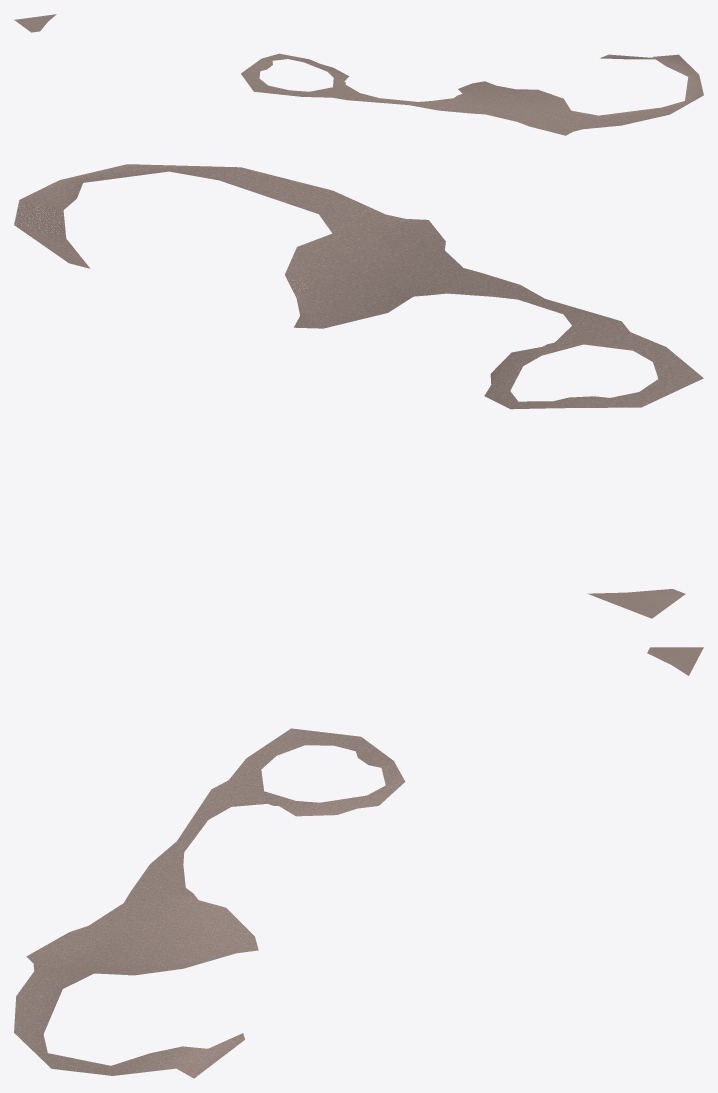
The model's file is kd_connection_town-ground_surface_2_11.glb.
3 renders of one model, top to bottom at view 1: azimuth 30°, elevation 25°; view 2: azimuth 150°, elevation 25°; view 3: azimuth 270°, elevation 25°, orthographic. The views are drawn at different scales.
Parts seen in each view (by area): view 1: kd_connection_town-ground_surface_2_11; view 2: kd_connection_town-ground_surface_2_11; view 3: kd_connection_town-ground_surface_2_11.
Boxes of the visible parts, <box> form: kd_connection_town-ground_surface_2_11: <box>14,14,703,135</box>; kd_connection_town-ground_surface_2_11: <box>14,164,703,618</box>; kd_connection_town-ground_surface_2_11: <box>14,647,703,1078</box>.
Size of the model in its own units: 83.39 by 6.24 by 65.07.
Materials: 1 (1 with a texture image).
